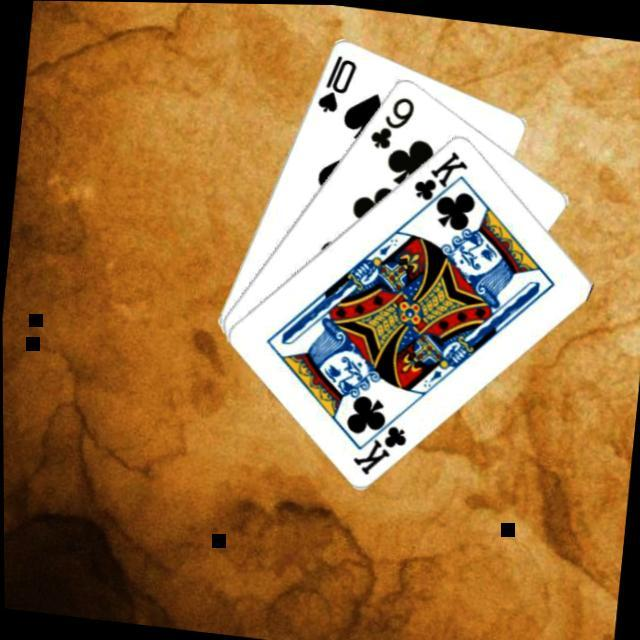10S: (310, 50, 358, 119)
9C: (362, 90, 415, 156)
KC: (405, 143, 469, 220), (345, 405, 409, 482)
